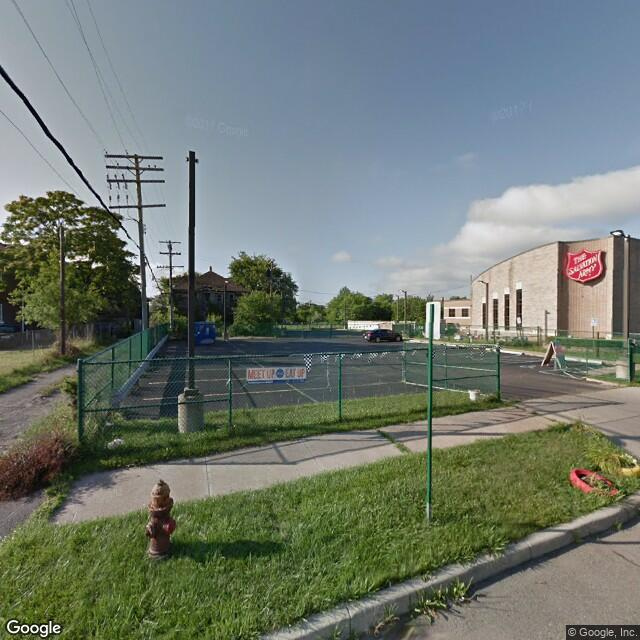litter: (107, 433, 126, 450)
